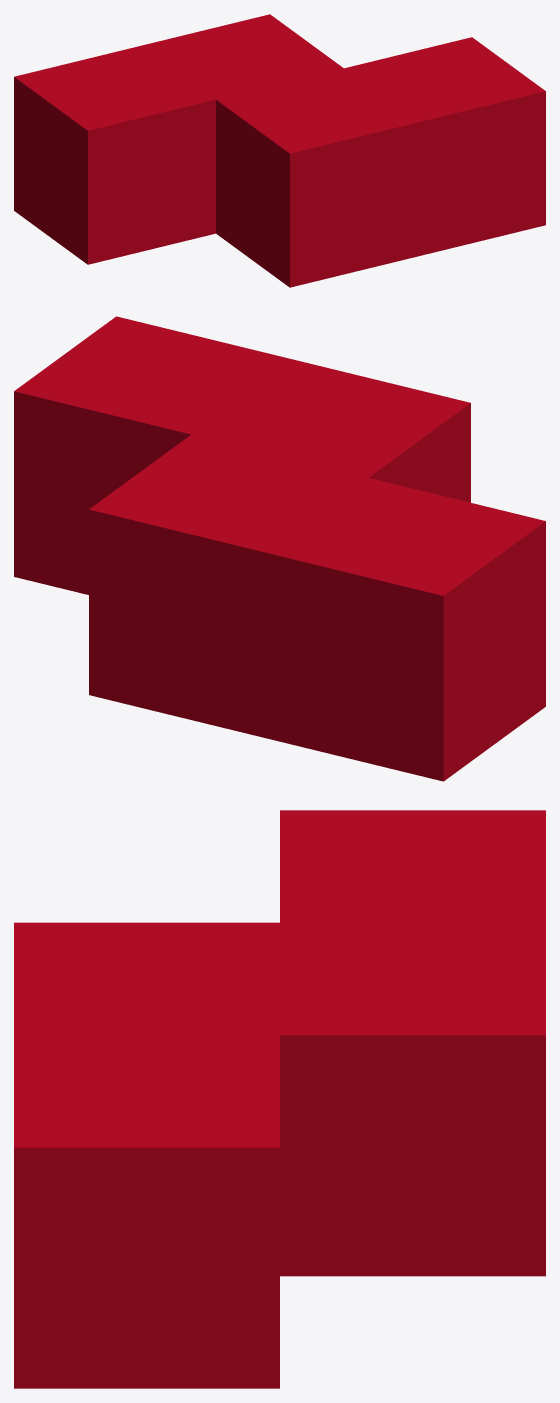
The model's file is clevelandz.glb.
3 renders of one model, top to bottom at view 1: azimuth 30°, elevation 25°; view 2: azimuth 150°, elevation 25°; view 3: azimuth 270°, elevation 25°, orthographic. The views are drawn at different scales.
Visible parts, largest first — view 1: Cube; view 2: Cube; view 3: Cube.
Part boxes in pixels (x1,y1,x2,y2): Cube: (14,14,545,287); Cube: (14,316,545,781); Cube: (14,810,545,1388).
Bounding box in the file's own units: 3 × 1 × 2.
